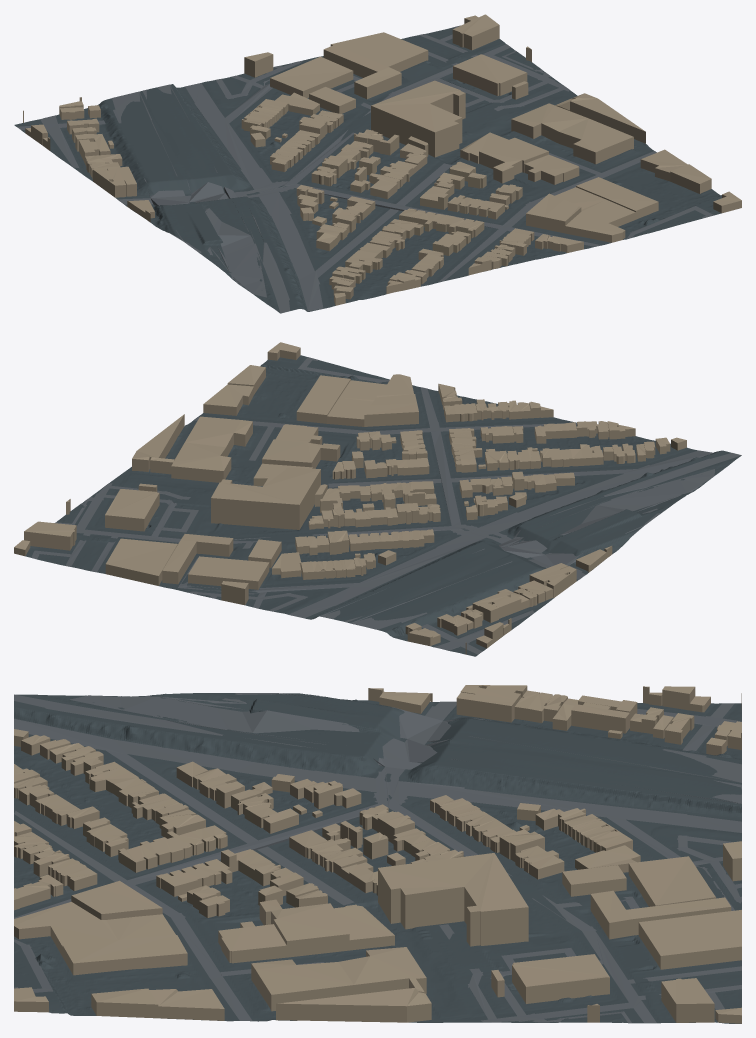
Rendered from epsg26910-1439-10874.lod0.glb.
3 views of the same model, one above another, from view 1: azimuth 30°, elevation 25°; view 2: azimuth 150°, elevation 25°; view 3: azimuth 270°, elevation 25° (orthographic). The views are drawn at different scales.
Parts seen in each view (by area): view 1: epsg26910-1439-10874-lod0; view 2: epsg26910-1439-10874-lod0; view 3: epsg26910-1439-10874-lod0.
Boxes of the visible parts, x1,y1,x2,y2 form: epsg26910-1439-10874-lod0: (14,14,741,313); epsg26910-1439-10874-lod0: (14,342,741,656); epsg26910-1439-10874-lod0: (14,685,741,1023).
Bounding box in the file's own units: 384 × 25.18 × 384.
